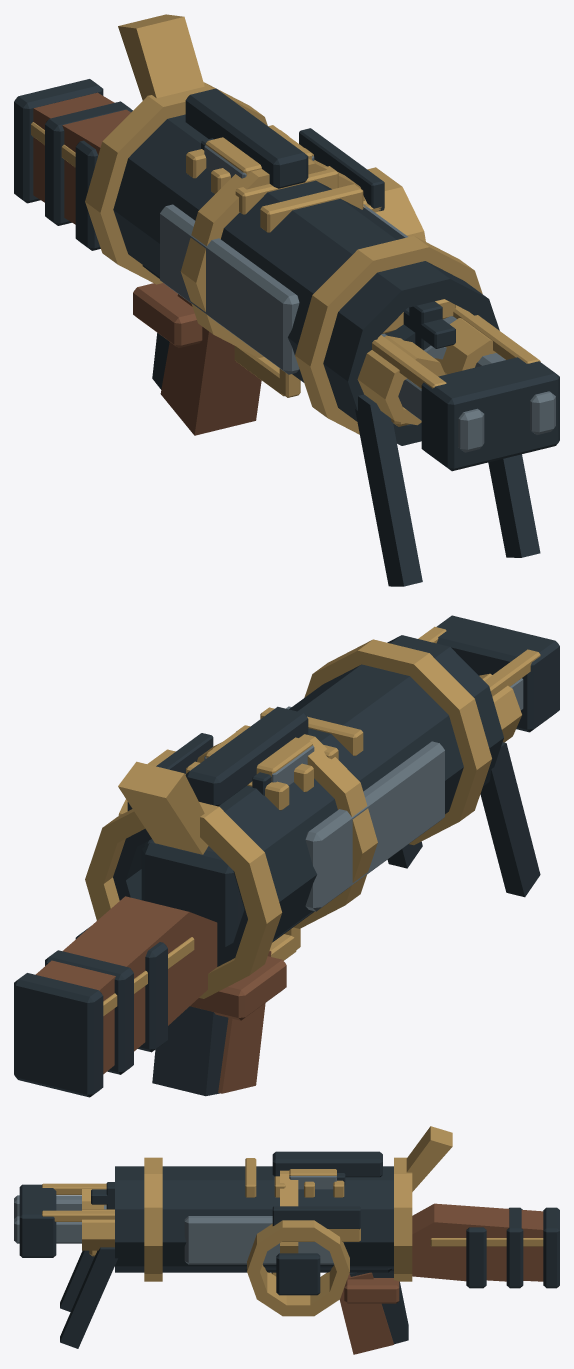
Rendered from basic-guns.glb.
The picture shows the model from 3 angles, top to bottom: view 1: azimuth 30°, elevation 25°; view 2: azimuth 150°, elevation 25°; view 3: azimuth 270°, elevation 25°; orthographic projection. The views are drawn at different scales.
Visible parts, largest first — view 1: rocket_hammer_dark, rocket_hammer_brass, sniper_rail_dark, rocket_hammer_iron, pistol_rusty_wood, shotgun_sapper_brass, rifle_carbine_dark, rifle_carbine_brass, sniper_rail_brass, rifle_carbine_wood, sniper_rail_iron, smg_hornet_dark (+6 smaller); view 2: rocket_hammer_dark, rocket_hammer_brass, rifle_carbine_dark, sniper_rail_dark, rocket_hammer_iron, rifle_carbine_wood, smg_hornet_dark, pistol_rusty_dark, smg_hornet_wood, rocket_hammer_wood, pistol_rusty_wood, rifle_carbine_brass (+7 smaller); view 3: rocket_hammer_dark, rocket_hammer_brass, sniper_rail_dark, smg_hornet_brass, rifle_carbine_wood, rocket_hammer_iron, smg_hornet_wood, smg_hornet_dark, pistol_rusty_dark, pistol_rusty_wood, sniper_rail_brass, sniper_rail_iron (+8 smaller).
Boxes of the visible parts, x1=… form: rocket_hammer_dark: x1=113, y1=88, x2=499, y2=445; rocket_hammer_brass: x1=85, y1=14, x2=482, y2=434; sniper_rail_dark: x1=75, y1=140, x2=559, y2=586; rocket_hammer_iron: x1=160, y1=204, x2=407, y2=374; pistol_rusty_wood: x1=160, y1=294, x2=261, y2=435; shotgun_sapper_brass: x1=357, y1=318, x2=495, y2=425; rifle_carbine_dark: x1=14, y1=79, x2=442, y2=350; rifle_carbine_brass: x1=31, y1=122, x2=363, y2=232; sniper_rail_brass: x1=205, y1=125, x2=540, y2=426; rifle_carbine_wood: x1=33, y1=92, x2=130, y2=221; sniper_rail_iron: x1=204, y1=145, x2=555, y2=452; smg_hornet_dark: x1=45, y1=101, x2=415, y2=343; rocket_hammer_dark: x1=113, y1=635, x2=503, y2=966; rocket_hammer_brass: x1=85, y1=639, x2=491, y2=998; rifle_carbine_dark: x1=14, y1=843, x2=223, y2=1097; sniper_rail_dark: x1=75, y1=615, x2=559, y2=1052; rocket_hammer_iron: x1=286, y1=706, x2=444, y2=911; rifle_carbine_wood: x1=35, y1=896, x2=217, y2=1074; smg_hornet_dark: x1=45, y1=840, x2=240, y2=1074; pistol_rusty_dark: x1=127, y1=733, x2=271, y2=1096; smg_hornet_wood: x1=130, y1=912, x2=217, y2=1051; rocket_hammer_wood: x1=190, y1=956, x2=286, y2=1020; pistol_rusty_wood: x1=218, y1=951, x2=271, y2=1093; rifle_carbine_brass: x1=103, y1=707, x2=363, y2=1016; rocket_hammer_dark: x1=115, y1=1151, x2=393, y2=1272; rocket_hammer_brass: x1=144, y1=1126, x2=452, y2=1281; sniper_rail_dark: x1=19, y1=1184, x2=486, y2=1348; smg_hornet_brass: x1=247, y1=1220, x2=506, y2=1316; rifle_carbine_wood: x1=412, y1=1203, x2=543, y2=1281; rocket_hammer_iron: x1=184, y1=1216, x2=334, y2=1264; smg_hornet_wood: x1=412, y1=1204, x2=506, y2=1281; smg_hornet_dark: x1=244, y1=1207, x2=523, y2=1295; pistol_rusty_dark: x1=272, y1=1173, x2=408, y2=1344; pistol_rusty_wood: x1=340, y1=1272, x2=393, y2=1354; sniper_rail_brass: x1=42, y1=1169, x2=465, y2=1256; sniper_rail_iron: x1=14, y1=1176, x2=336, y2=1243.
Size of the model in its own units: 0.42 by 0.64 by 1.49.
